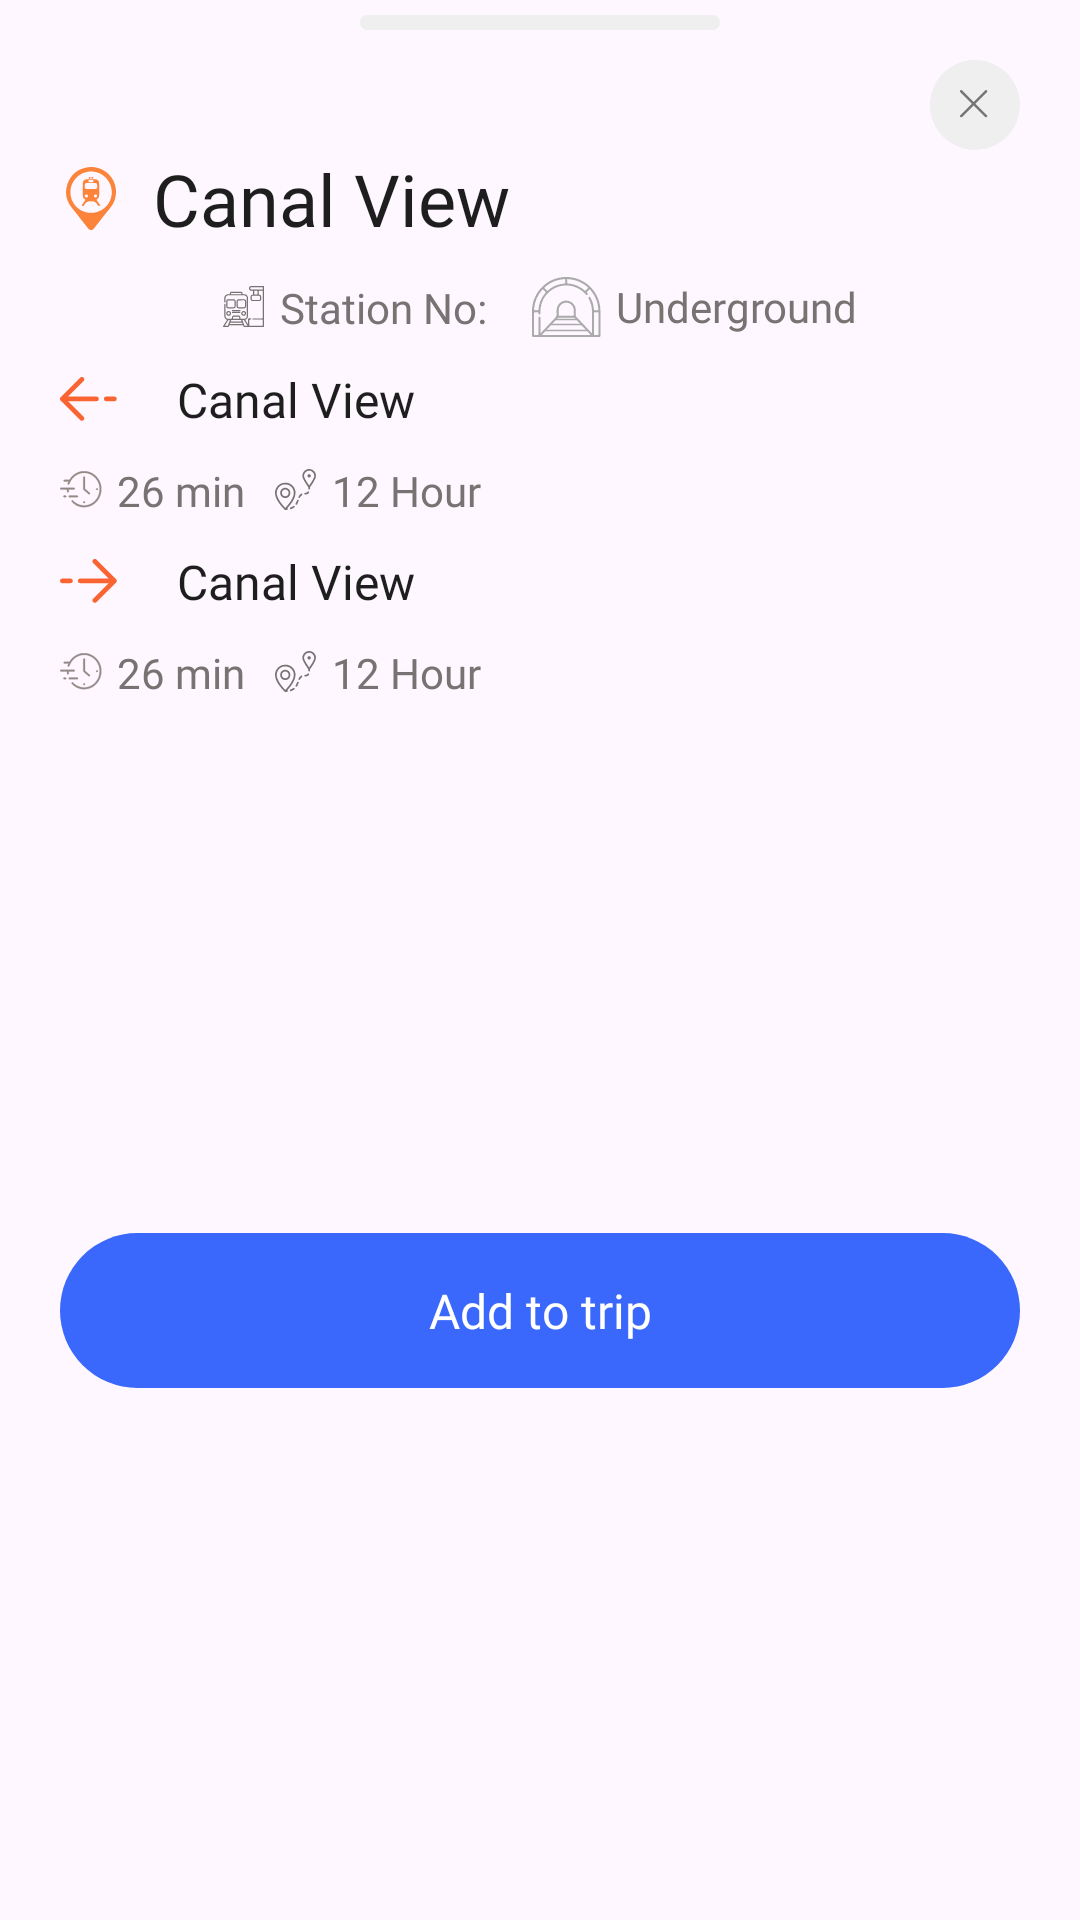

Where to tap for icons on this 1080px x 1920px app screen, as (x=x, y=y):
close: (x=975, y=105)
